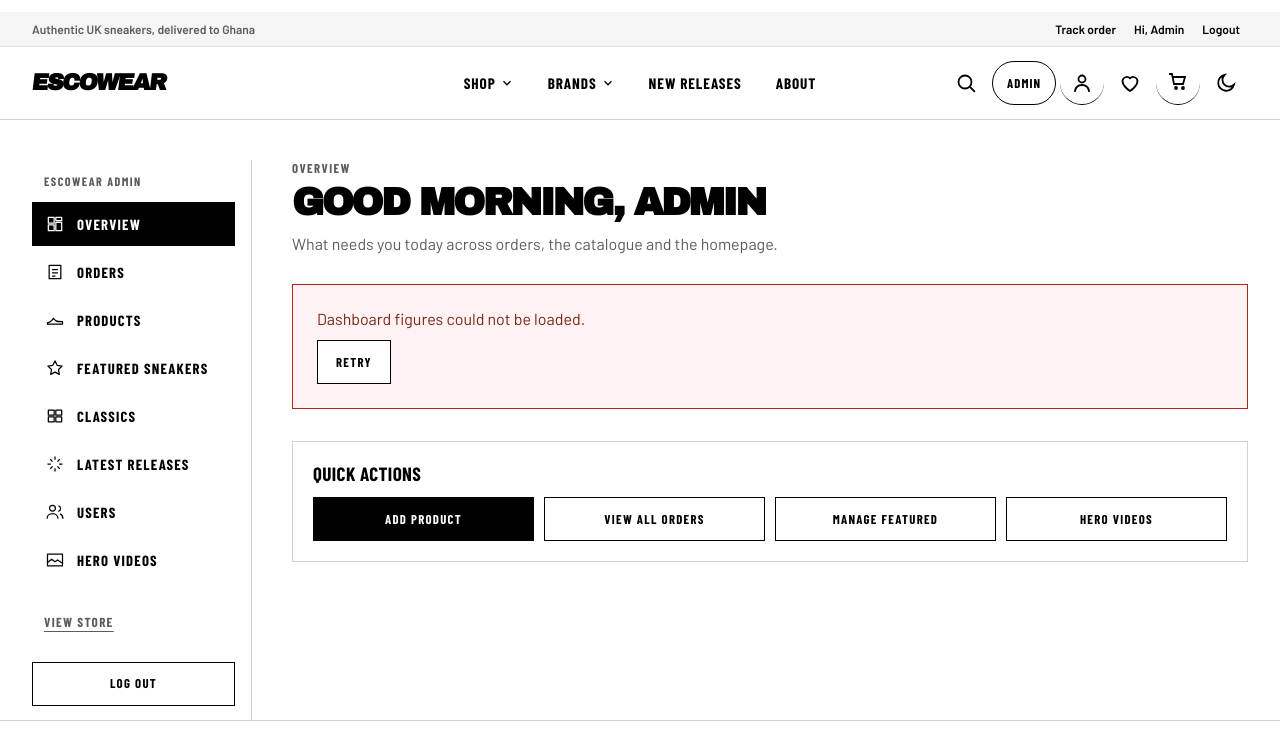
Test: failed stats show Retry and recover
expect the message shows "Dashboard figures could not be loaded": met, box [317,310,585,328]
What coordinates should you click on to do the following:
click the button "Retry"
I would click on:
 (354, 362)
Its box is [317,340,391,384].
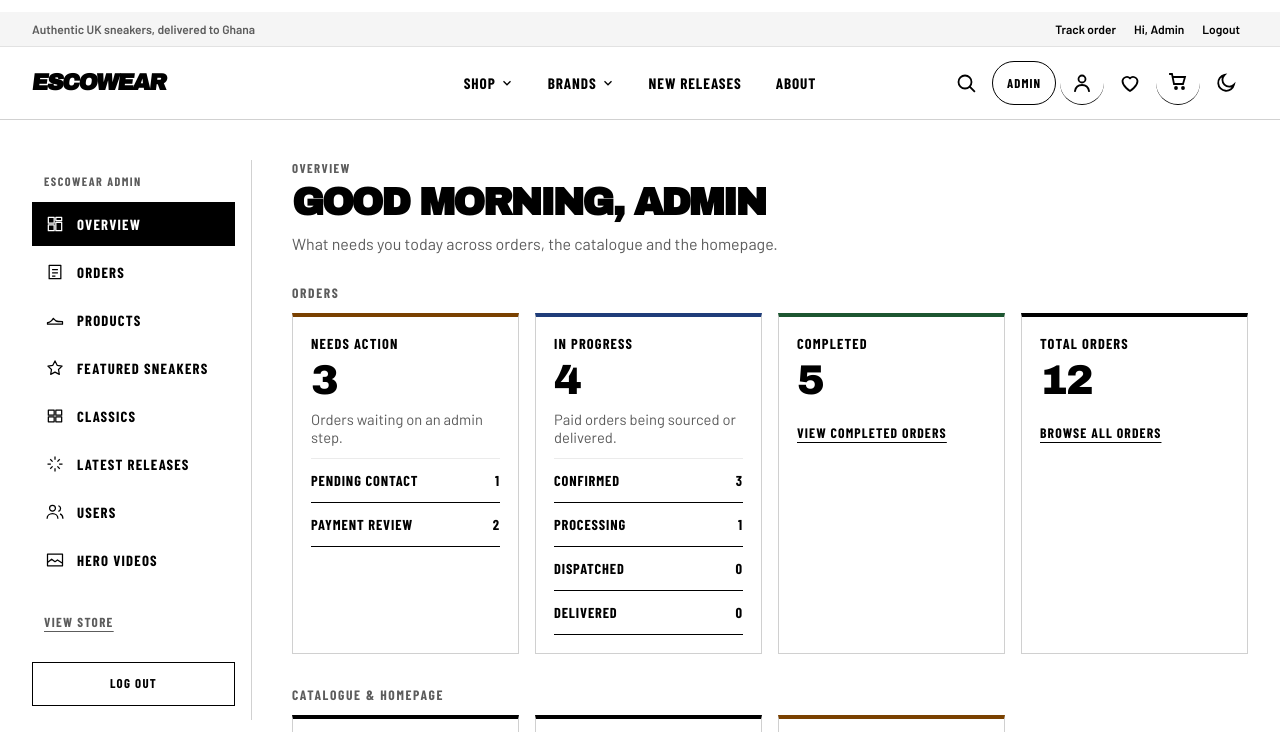
expect the heading "Needs action" is shown: met, box [311,336,398,352]
